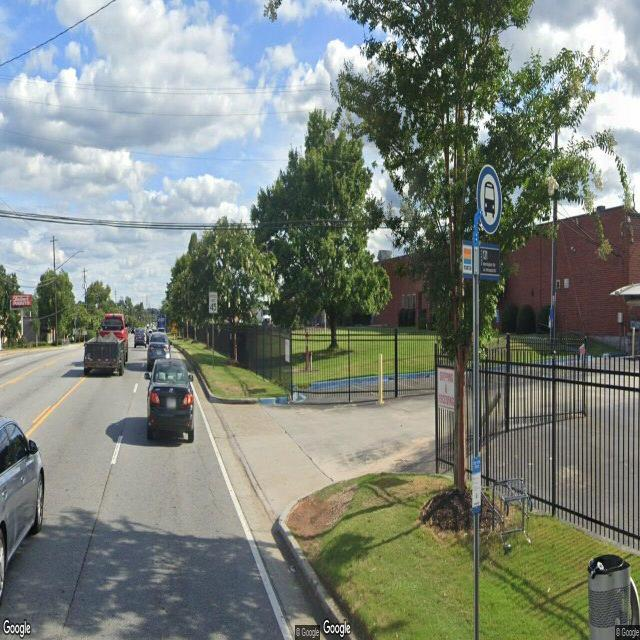trash_can: (586, 554, 632, 640)
